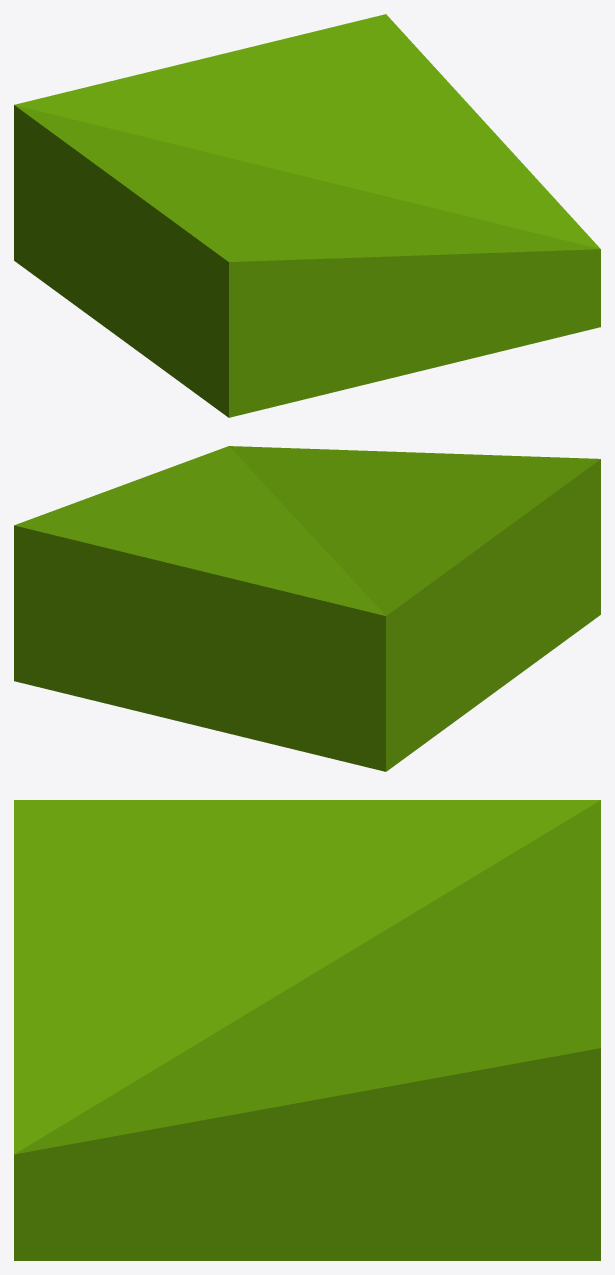
Rendered from TileGround_45.fbx.
3 renders of one model, top to bottom at view 1: azimuth 30°, elevation 25°; view 2: azimuth 150°, elevation 25°; view 3: azimuth 270°, elevation 25°, orthographic. The views are drawn at different scales.
Parts seen in each view (by area): view 1: TileGround_45; view 2: TileGround_45; view 3: TileGround_45.
Boxes of the visible parts, bbox=[...] form: TileGround_45: bbox=[14, 14, 600, 417]; TileGround_45: bbox=[14, 446, 600, 771]; TileGround_45: bbox=[14, 800, 600, 1260].
Bounding box in the file's own units: 500 × 200 × 500.
